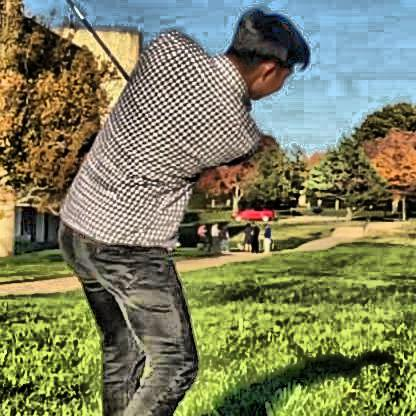golfball: (306, 202, 321, 212)
